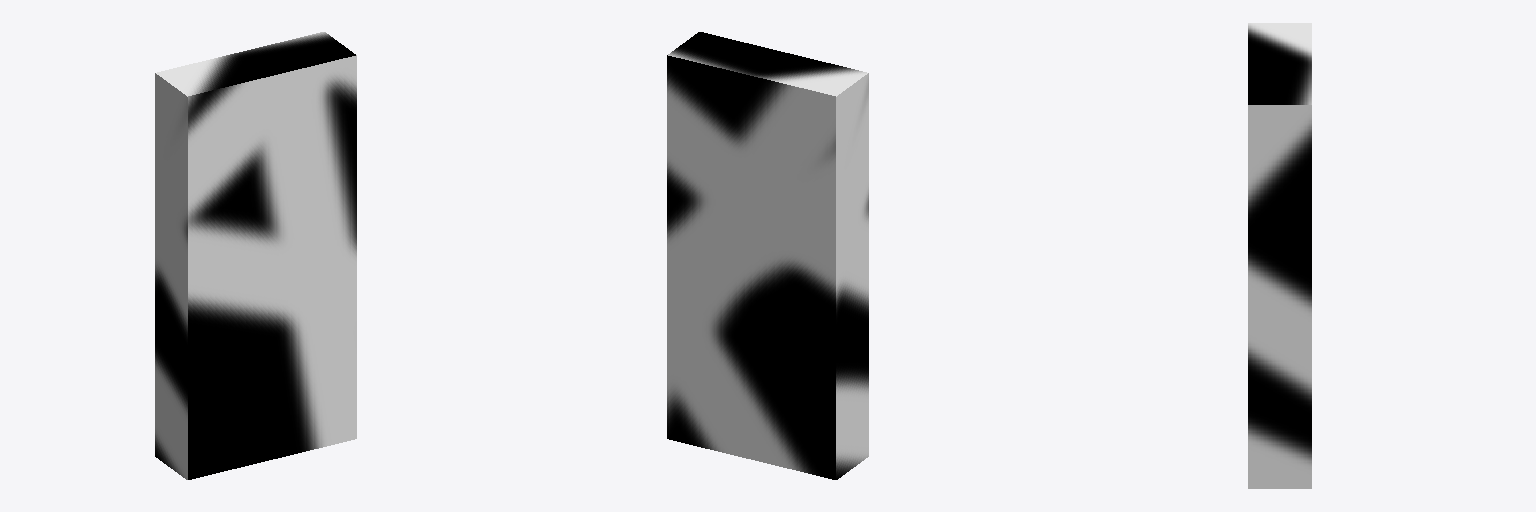
3 renders of one model, left to right at view 1: azimuth 30°, elevation 25°; view 2: azimuth 150°, elevation 25°; view 3: azimuth 270°, elevation 25°, orthographic.
Visible parts, largest first — view 1: 胴; view 2: 胴; view 3: 胴.
Boxes of the visible parts, <box> form: 胴: <box>155,32,356,479</box>; 胴: <box>667,32,868,479</box>; 胴: <box>1248,23,1311,488</box>.
Size of the model in its own units: 6 by 13 by 1.99.
Materials: 1 (1 with a texture image).